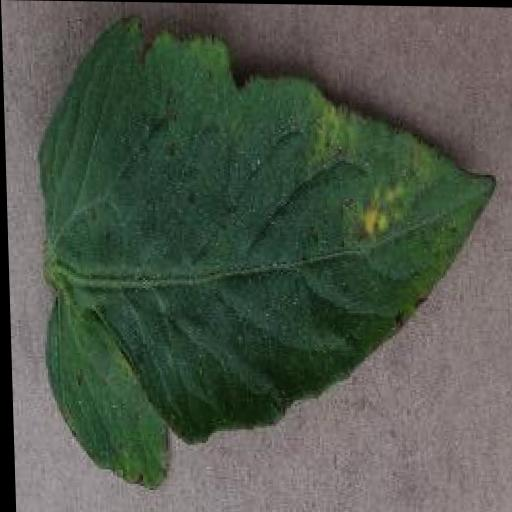Bacterial Spot: (26, 12, 509, 498)
